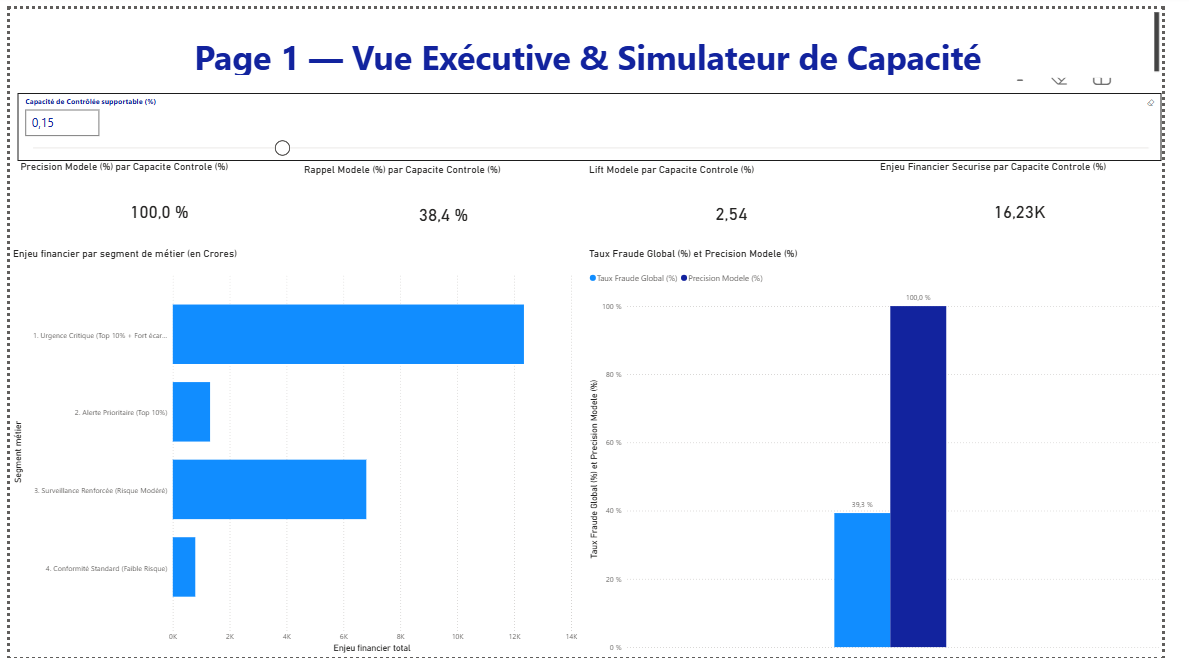

The dashboard page shown, as its layout file describes it:
{"tool":"powerbi","page":{"name":"Page 1","canvas":[1920,1080],"ordinal":0},"visuals":[{"type":"kpi","fields":{"Indicator":["Capacite Controle (%).Precision Modele (%)"],"TrendLine":["Capacite Controle (%).Capacite Controle (%)"]},"box":[11.3,252.3,473.4,286.3],"z":0},{"type":"barChart","title":"Enjeu financier par segment de métier (en Crores)","fields":{"Category":["public vw_audit_master.segment_metier"],"Y":["Sum(public vw_audit_master.enjeu_financier_total)"]},"box":[0,538.6,949.6,538.6],"z":1},{"type":"kpi","fields":{"Indicator":["Capacite Controle (%).Rappel Modele (%)"],"TrendLine":["Capacite Controle (%).Capacite Controle (%)"]},"box":[484.7,258,476.2,280.6],"z":2},{"type":"kpi","fields":{"Indicator":["Capacite Controle (%).Lift Modele"],"TrendLine":["Capacite Controle (%).Capacite Controle (%)"]},"box":[961,258,484.7,280.6],"z":3},{"type":"kpi","fields":{"Indicator":["Capacite Controle (%).Enjeu Financier Securise"],"TrendLine":["Capacite Controle (%).Capacite Controle (%)"]},"box":[1445.7,252.3,473.4,280.6],"z":4},{"type":"clusteredColumnChart","fields":{"Y":["_Mesures (3).Taux Fraude Global (%)","Capacite Controle (%).Precision Modele (%)"]},"box":[961,538.6,958.1,538.6],"z":5},{"type":"slicer","fields":{"Values":["Capacite Controle (%).Capacite Controle (%)"]},"box":[12.2,139.1,1907.9,112.2],"z":6},{"type":"textbox","box":[12.2,0,1907.9,114.7],"z":7}]}

Visuals, with their boxes in screenshot pixels (x1, y1, x2, y2), scaled from the page's 1920x1080 canvas onto the 1189x658 screenshot:
kpi - Capacite Controle (%).Precision Modele (%) x Capacite Controle (%).Capacite Controle (%): left=7, top=154, right=300, bottom=328
"Enjeu financier par segment de métier (en Crores)" barChart: left=0, top=328, right=588, bottom=656
kpi - Capacite Controle (%).Rappel Modele (%) x Capacite Controle (%).Capacite Controle (%): left=300, top=157, right=595, bottom=328
kpi - Capacite Controle (%).Lift Modele x Capacite Controle (%).Capacite Controle (%): left=595, top=157, right=895, bottom=328
kpi - Capacite Controle (%).Enjeu Financier Securise x Capacite Controle (%).Capacite Controle (%): left=895, top=154, right=1188, bottom=325
clusteredColumnChart - _Mesures (3).Taux Fraude Global (%) x Capacite Controle (%).Precision Modele (%): left=595, top=328, right=1188, bottom=656
slicer - Capacite Controle (%).Capacite Controle (%): left=8, top=85, right=1188, bottom=153
textbox: left=8, top=0, right=1188, bottom=70
